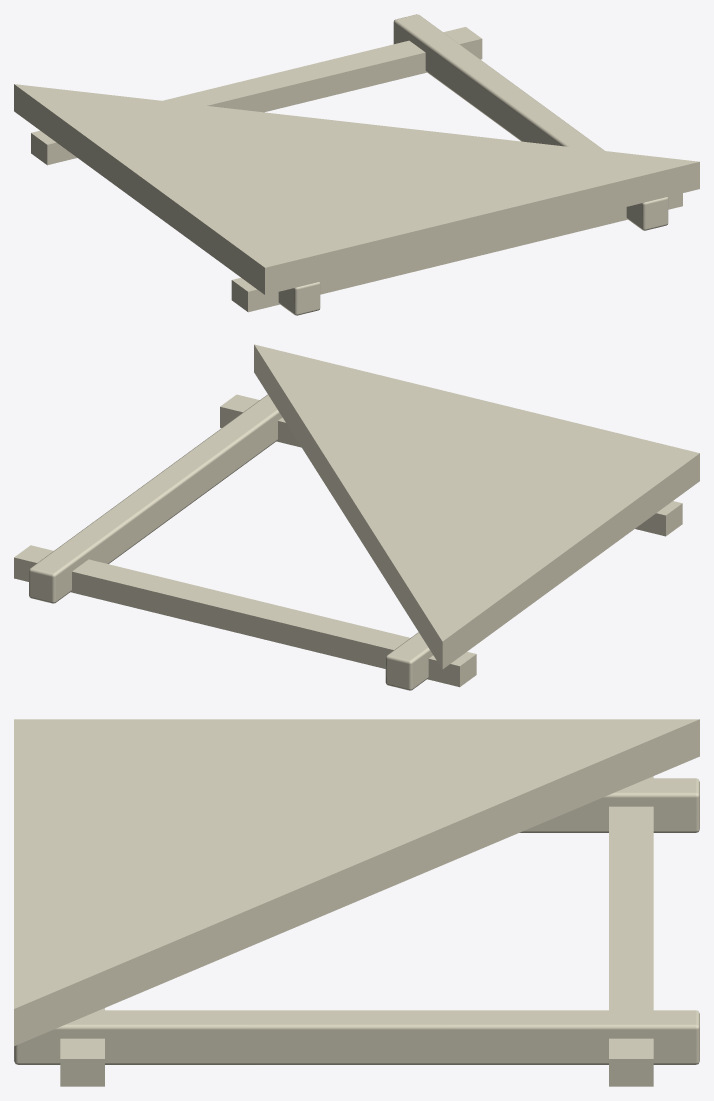
File: bunker-shelter-construction-shelter-triangular-transit-a28ef023__23298.glb
The picture shows the model from 3 angles, top to bottom: view 1: azimuth 30°, elevation 25°; view 2: azimuth 150°, elevation 25°; view 3: azimuth 270°, elevation 25°; orthographic projection. The views are drawn at different scales.
Visible parts, largest first — view 1: shelter-triangular-transition; view 2: shelter-triangular-transition; view 3: shelter-triangular-transition.
Boxes of the visible parts, box(x1,y1,x2,y2) form: shelter-triangular-transition: box(14, 14, 699, 315); shelter-triangular-transition: box(14, 344, 699, 690); shelter-triangular-transition: box(14, 719, 699, 1086).
Bounding box in the file's own units: 2 × 0.25 × 2.
